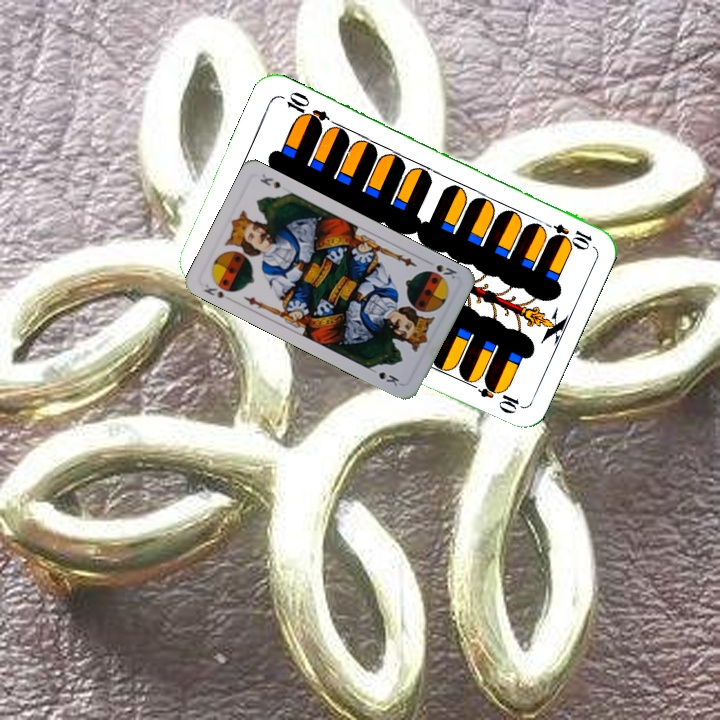E10: (537, 216, 595, 251)
SK: (199, 277, 237, 301), (432, 260, 460, 283)
